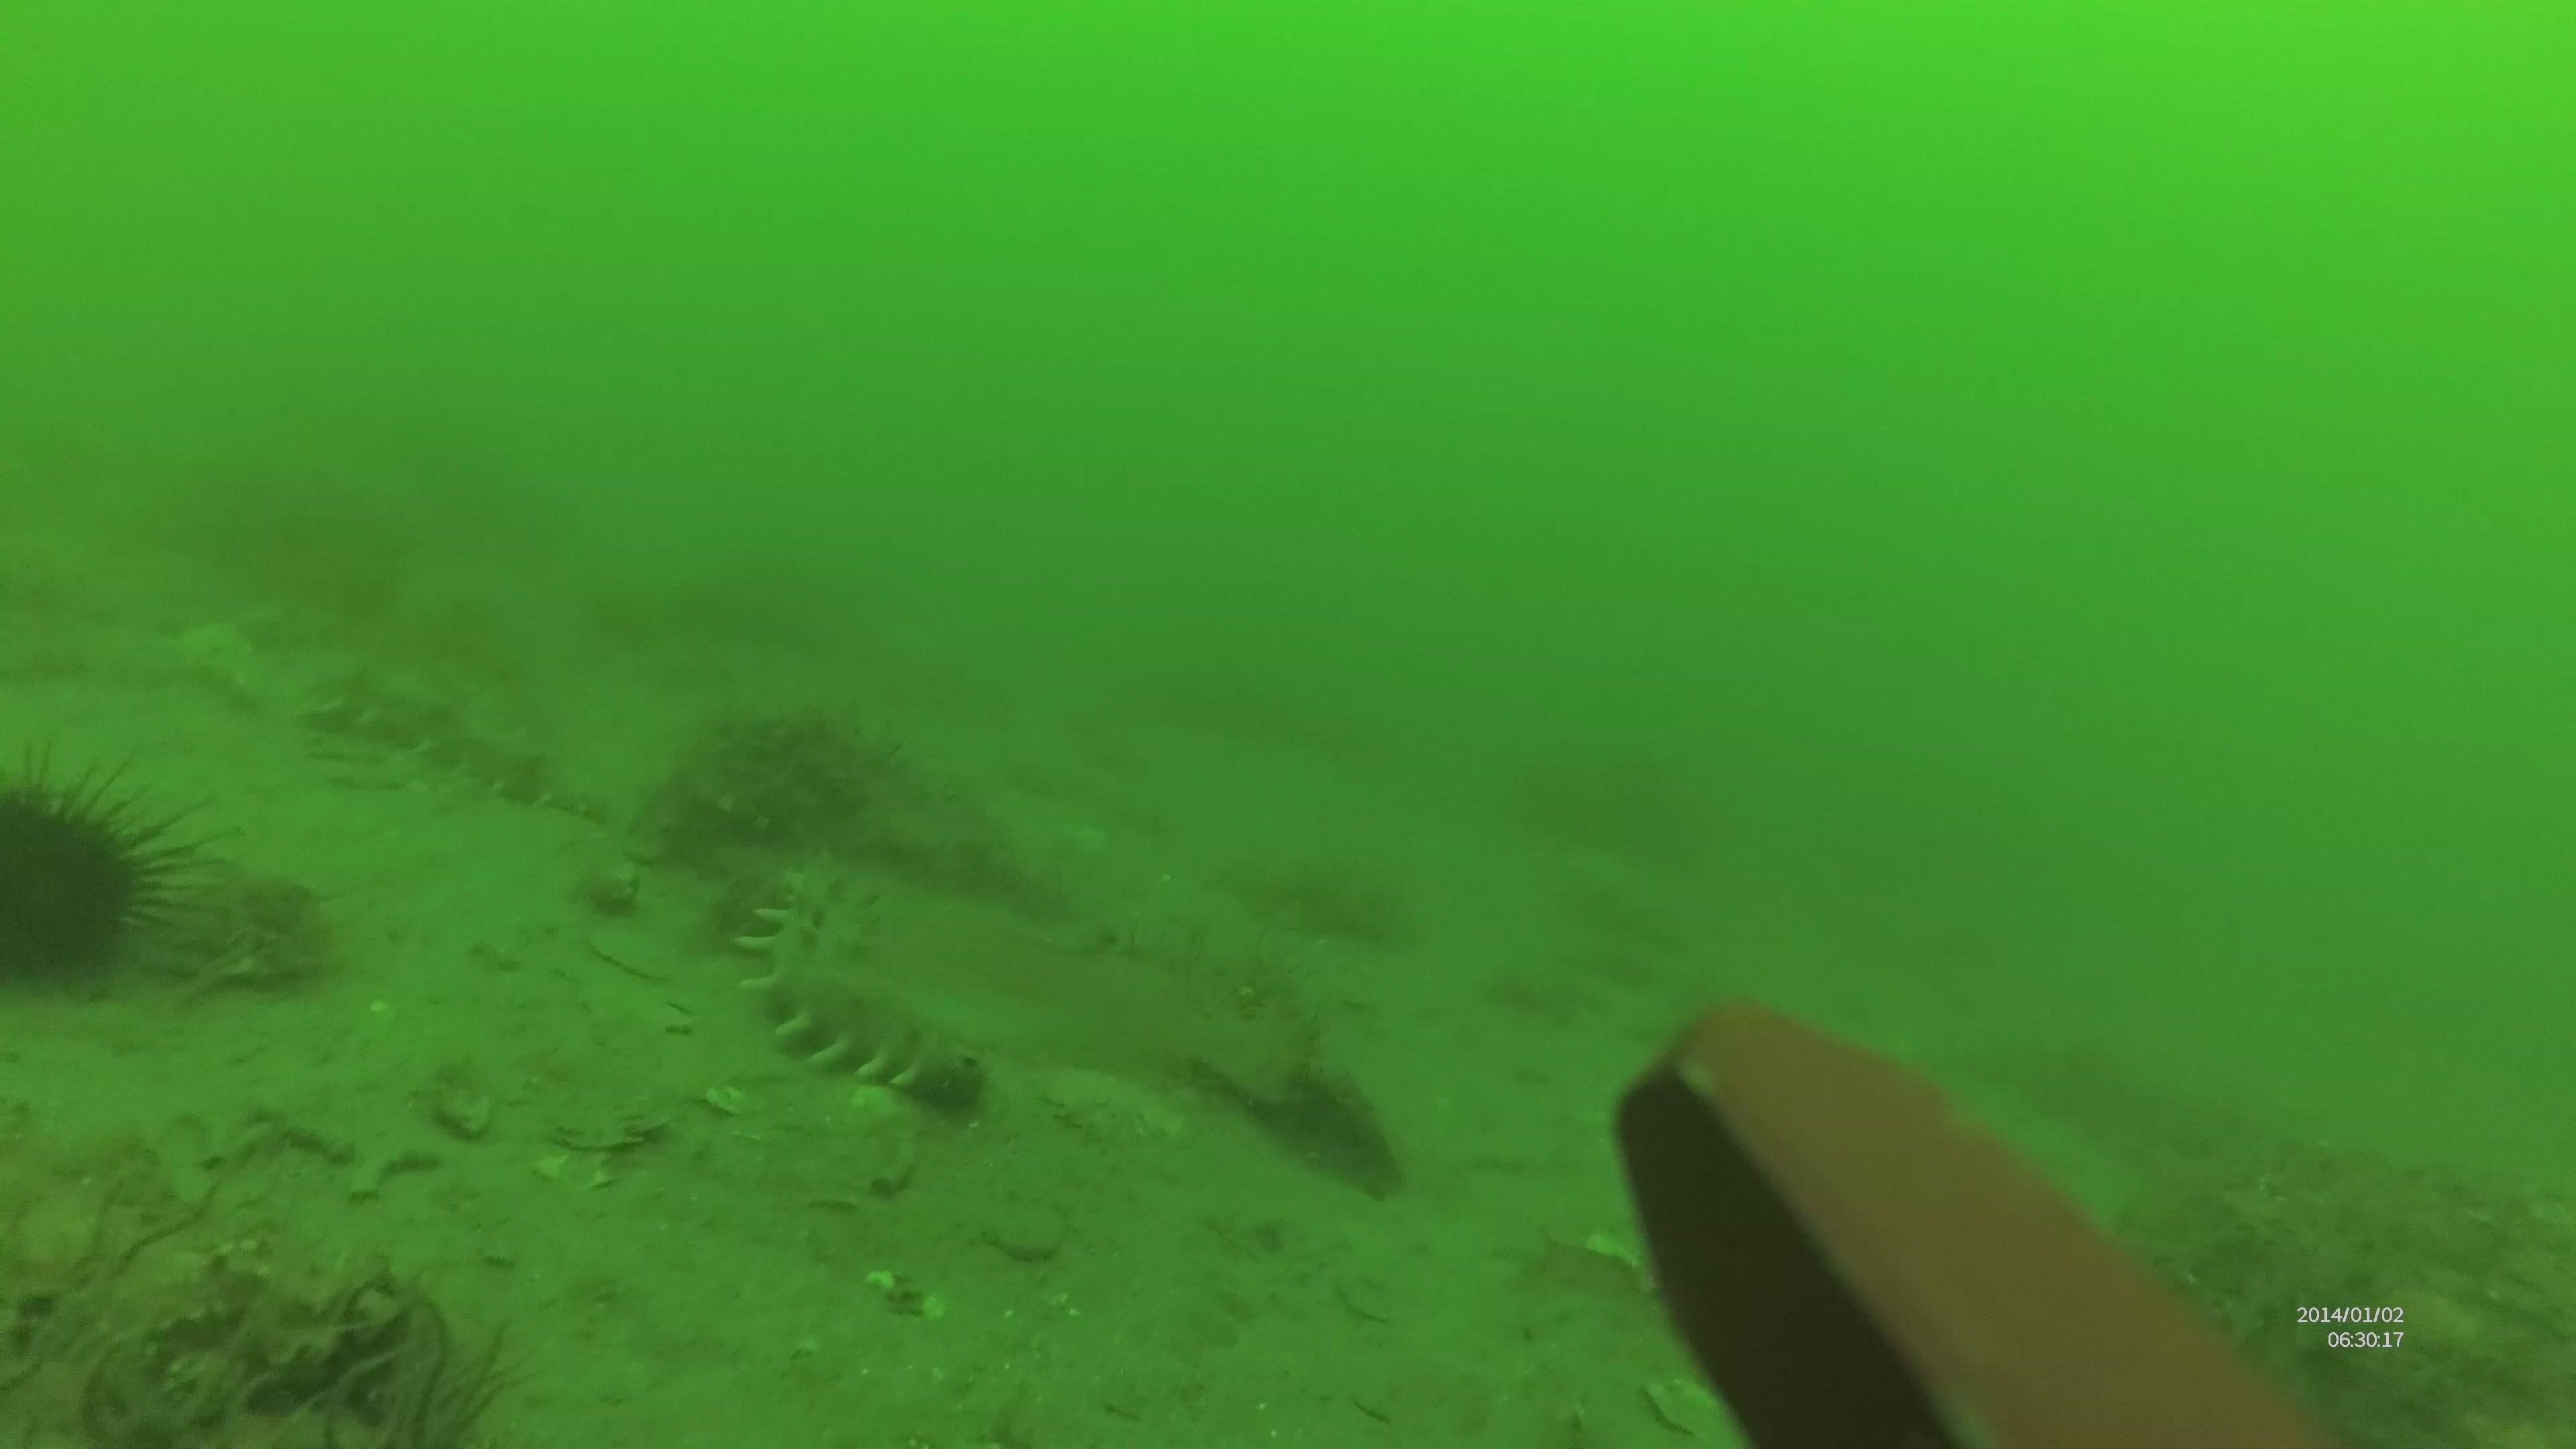echinus: (0, 755, 182, 994)
holothurian: (741, 879, 1007, 1134), (299, 663, 603, 824)
